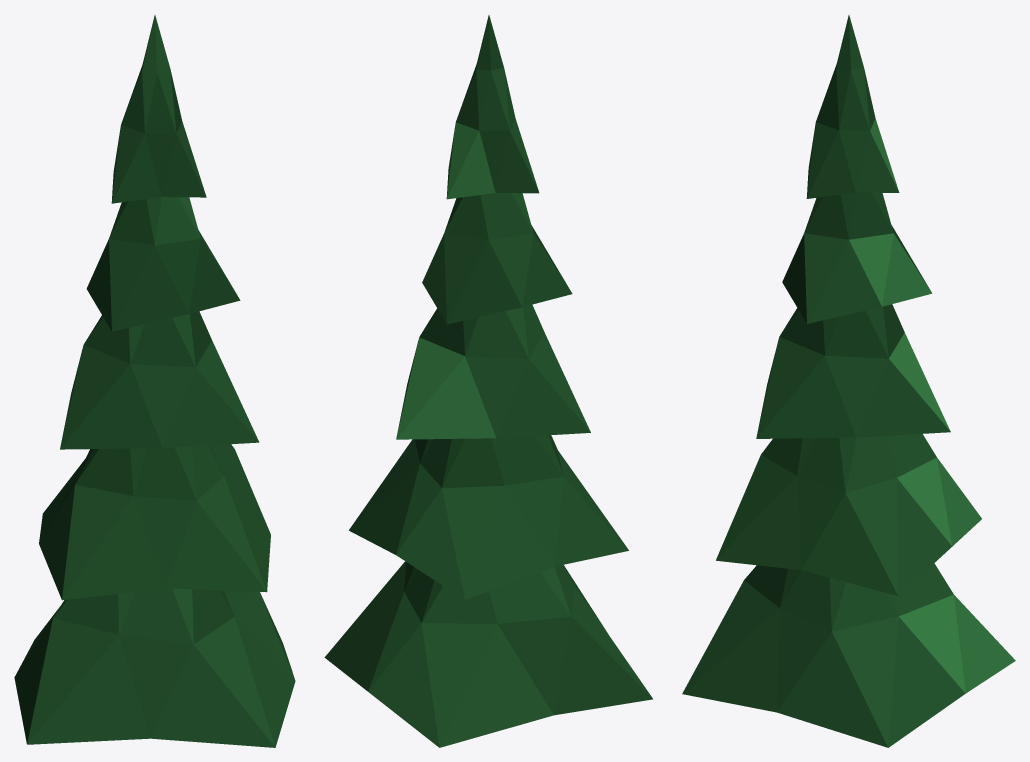
Rendered from Leaves_A.glb.
3 renders of one model, left to right at view 1: azimuth 30°, elevation 25°; view 2: azimuth 150°, elevation 25°; view 3: azimuth 270°, elevation 25°, orthographic. The views are drawn at different scales.
Visible parts, largest first — view 1: Leaves; view 2: Leaves; view 3: Leaves.
Part boxes in pixels (box(x1,y1,x2,y2)): Leaves: box(14, 15, 295, 747); Leaves: box(324, 15, 652, 747); Leaves: box(682, 15, 1015, 747).
Bounding box in the file's own units: 18.49 × 40.54 × 18.49.
